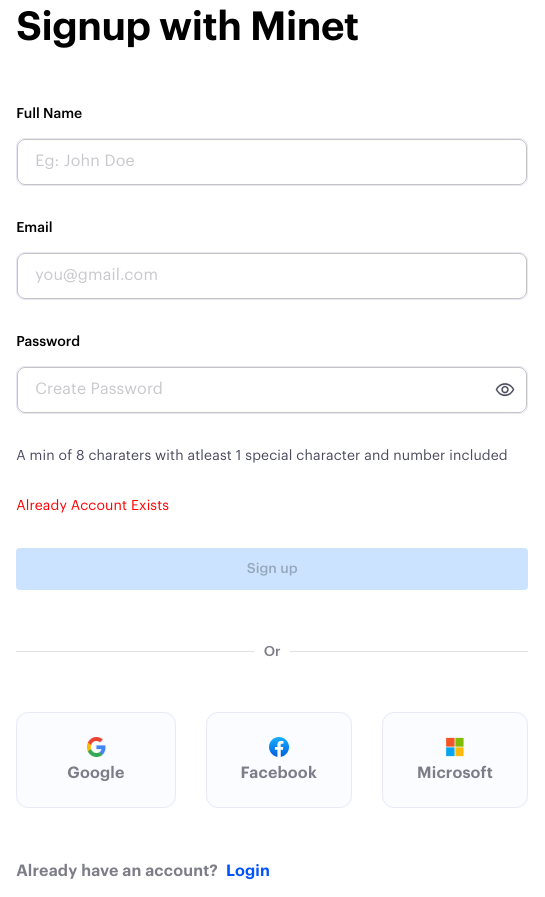
it: Signup component › should handles input changes
Step 1. Type "John Doe" into the field with placeholder "Eg: John Doe" → point(268, 162), box x1=21 y1=135 x2=515 y2=188
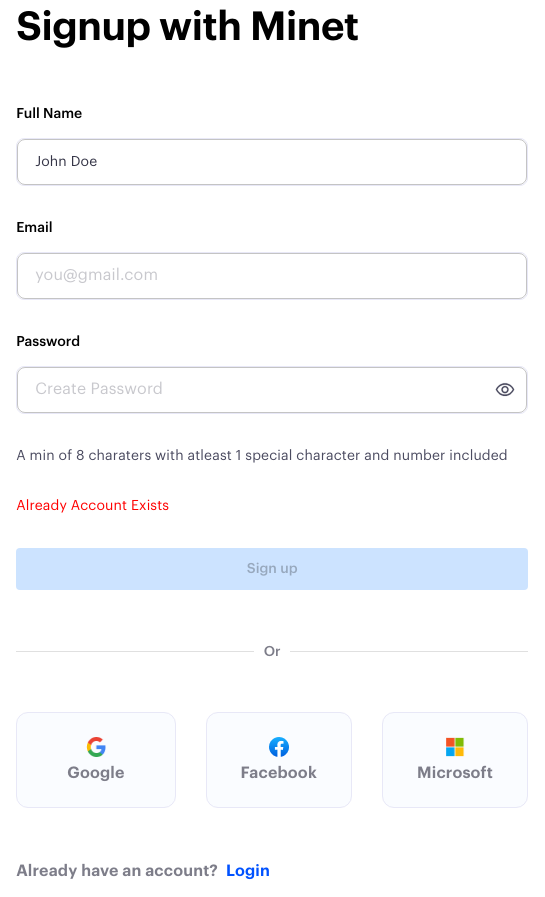
Step 2. Type "john@example.com" into the field with placeholder "you@gmail.com" → point(268, 276), box x1=21 y1=249 x2=515 y2=302
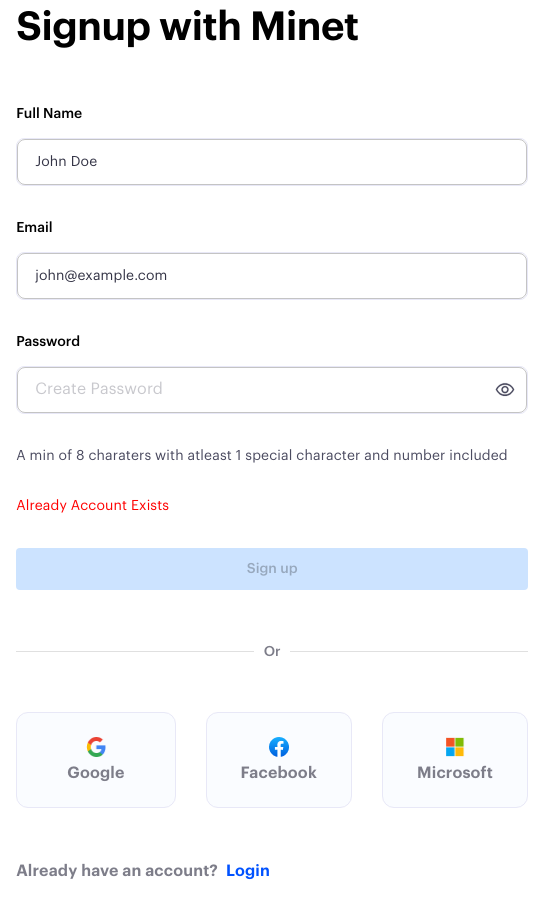
Step 3. Type "Password@123" into the field with placeholder "Create Password" → point(250, 390), box x1=21 y1=363 x2=479 y2=416
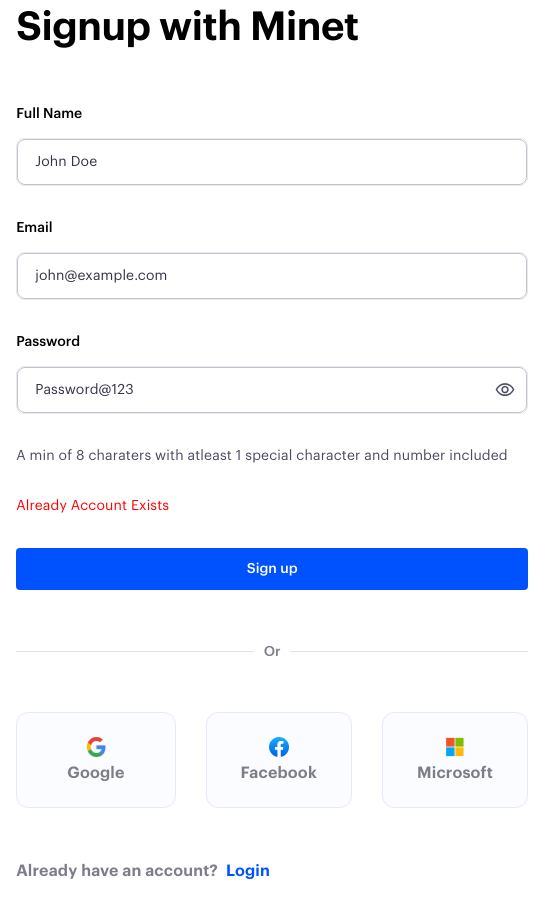
Result: the button "Sign up" is enabled at x1=16 y1=548 x2=528 y2=590
